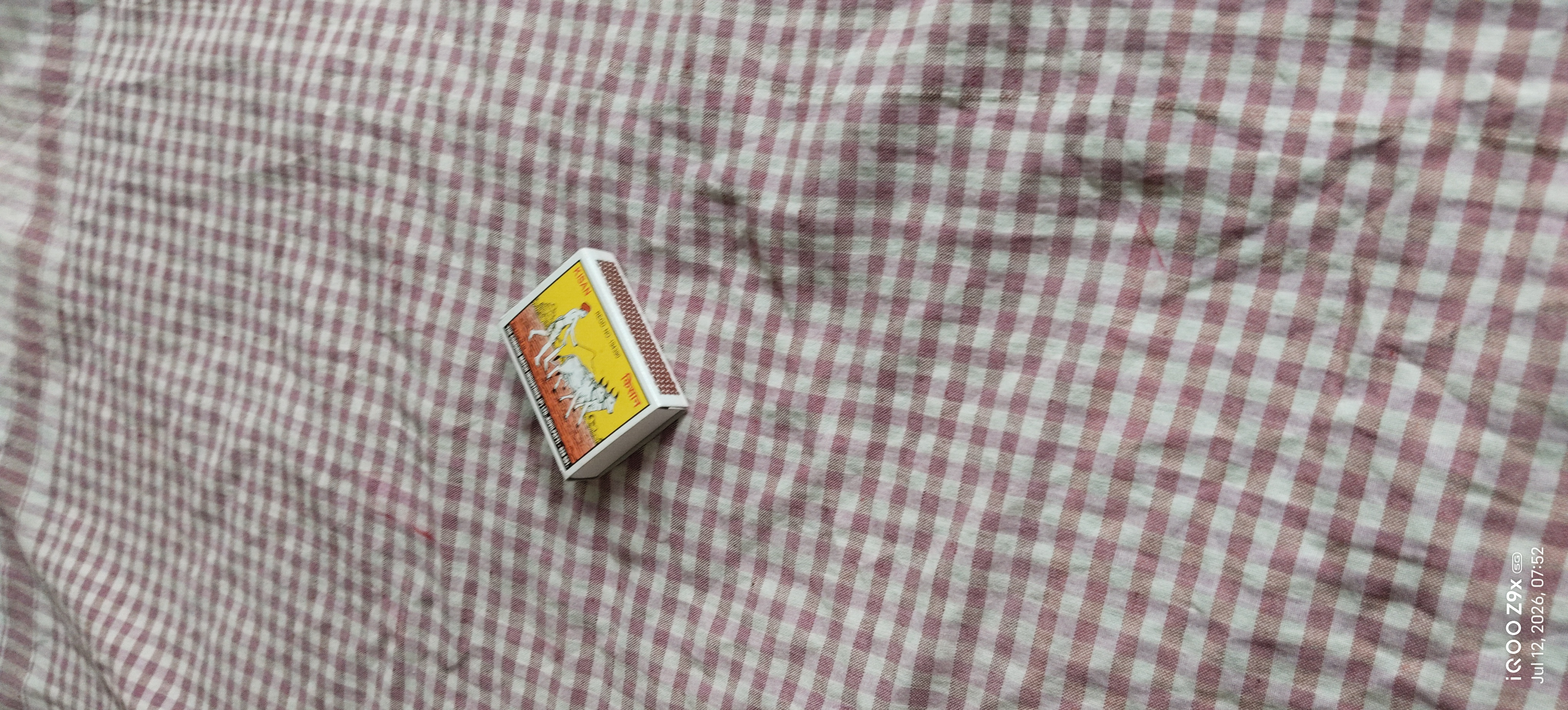matchbox: (481, 221, 719, 497)
